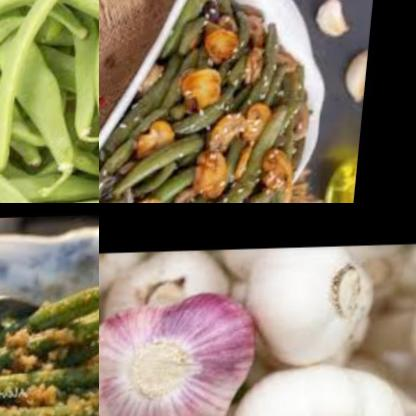fasol: (0, 0, 99, 203), (105, 15, 215, 194), (0, 256, 99, 416), (109, 137, 214, 203), (176, 67, 273, 137), (184, 154, 304, 203), (273, 67, 312, 133)
garlic: (99, 286, 260, 416), (245, 246, 386, 374), (99, 250, 239, 339), (225, 360, 416, 416), (315, 0, 360, 42), (343, 43, 371, 110), (404, 250, 416, 392)
